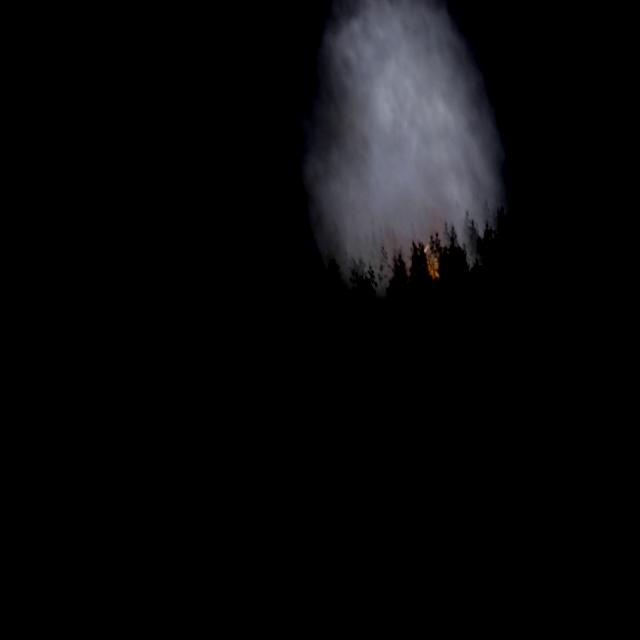fire: (414, 242, 444, 282)
smoke: (249, 0, 540, 310)
